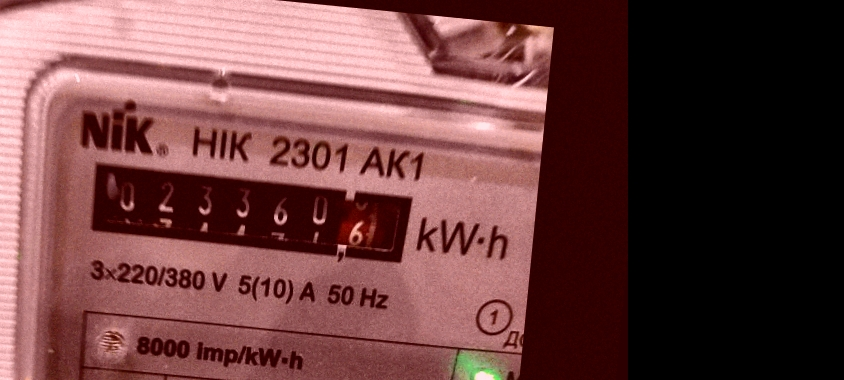0: (114, 175, 139, 212), (306, 190, 331, 227)
2: (154, 177, 178, 214)
3: (193, 181, 216, 218), (232, 184, 253, 219)
6: (268, 190, 291, 226), (344, 213, 365, 247)
screen: (73, 149, 432, 281)
